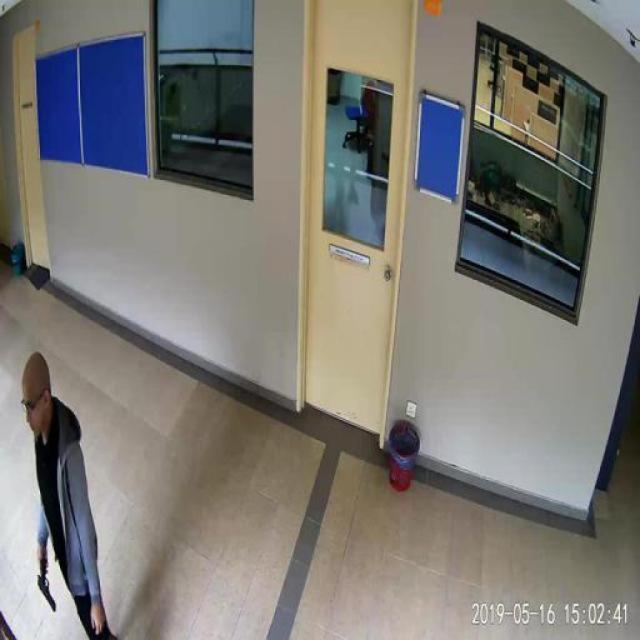pistol: (35, 556, 54, 608)
